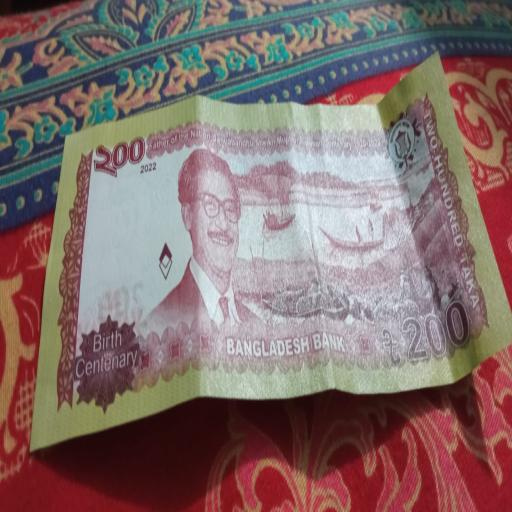200taka: (29, 46, 507, 458)
